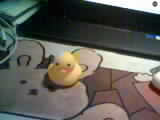duck: (45, 48, 81, 85)
